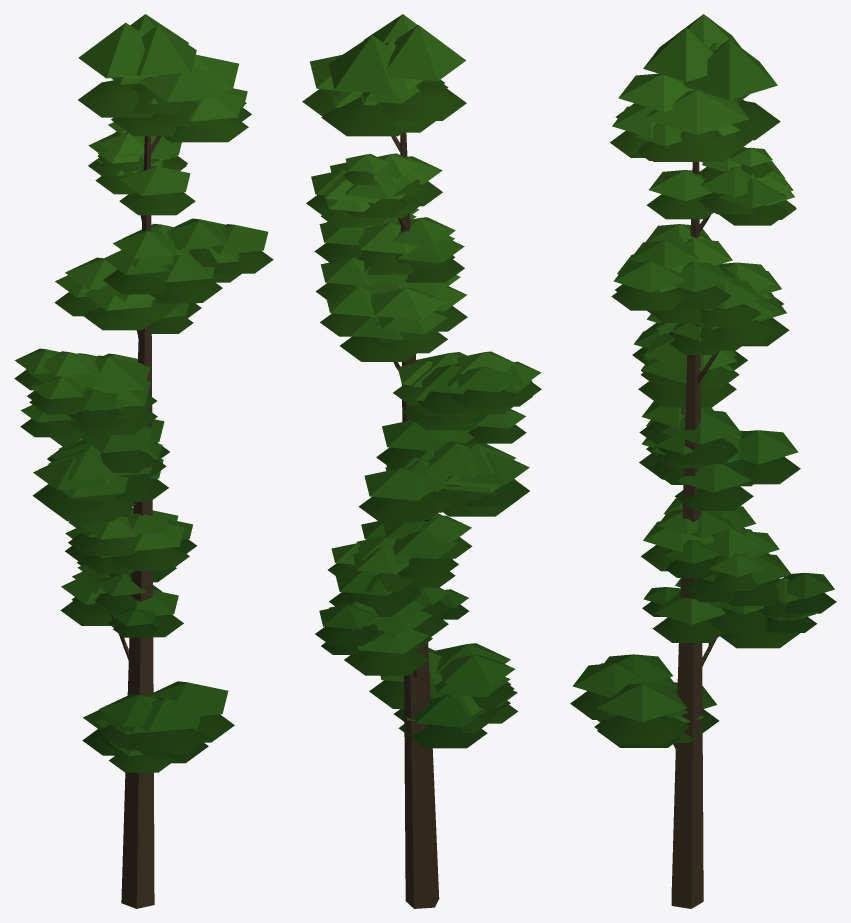
The model's file is tree_poplar_1_mid.glb.
3 renders of one model, left to right at view 1: azimuth 30°, elevation 25°; view 2: azimuth 150°, elevation 25°; view 3: azimuth 270°, elevation 25°, orthographic.
Visible parts, largest first — view 1: leaf, wood; view 2: leaf, wood; view 3: leaf, wood.
Part boxes in pixels (x1,y1,x2,y2): leaf: (14,14,273,772); wood: (111,136,161,908); leaf: (302,14,541,748); wood: (391,132,439,908); leaf: (570,14,836,747); wood: (671,161,718,908).
Bounding box in the file's own units: 3.71 × 14.31 × 3.91.
